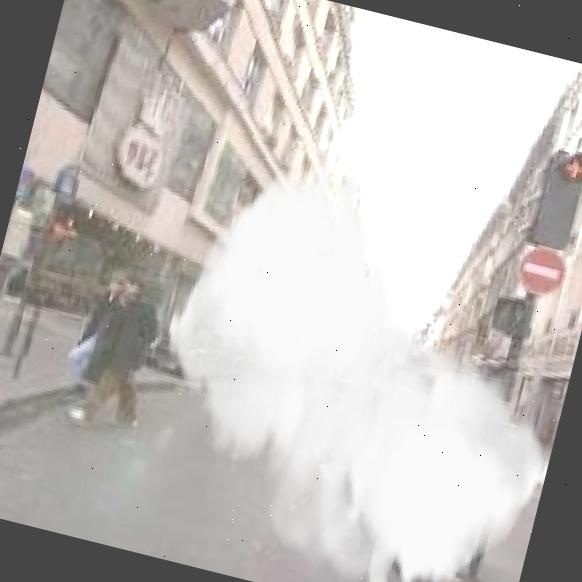smoke: (116, 123, 582, 582)
